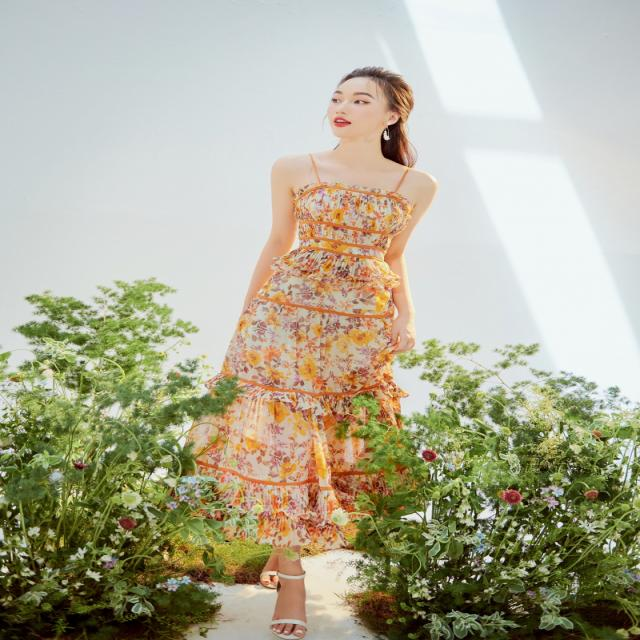clothes: (191, 148, 435, 550)
